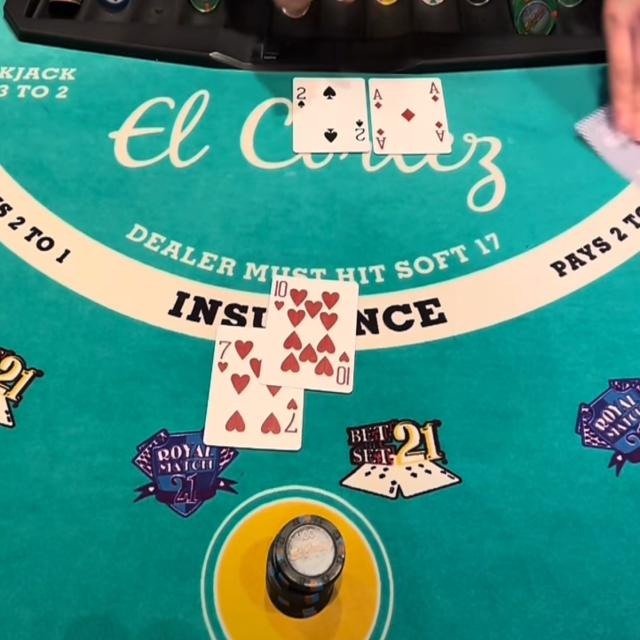10: (273, 278, 288, 298)
2: (295, 84, 309, 100)
7: (217, 338, 233, 361)
A: (372, 86, 384, 102)
